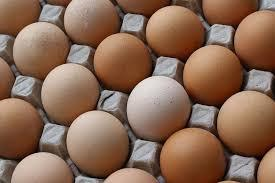egg: (128, 74, 191, 146), (66, 108, 130, 176), (215, 90, 274, 160), (158, 128, 230, 183), (94, 32, 156, 92), (184, 44, 242, 104), (39, 62, 99, 119), (147, 6, 205, 58), (9, 22, 69, 72), (63, 0, 121, 44), (232, 11, 275, 70), (0, 98, 40, 160), (11, 152, 74, 183)
